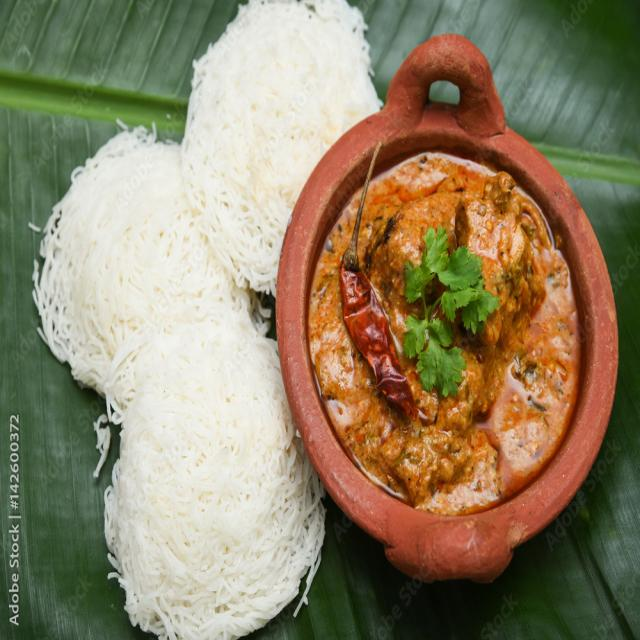IDIYAPPAM: (31, 0, 383, 639)
KURMA: (313, 154, 577, 495)
